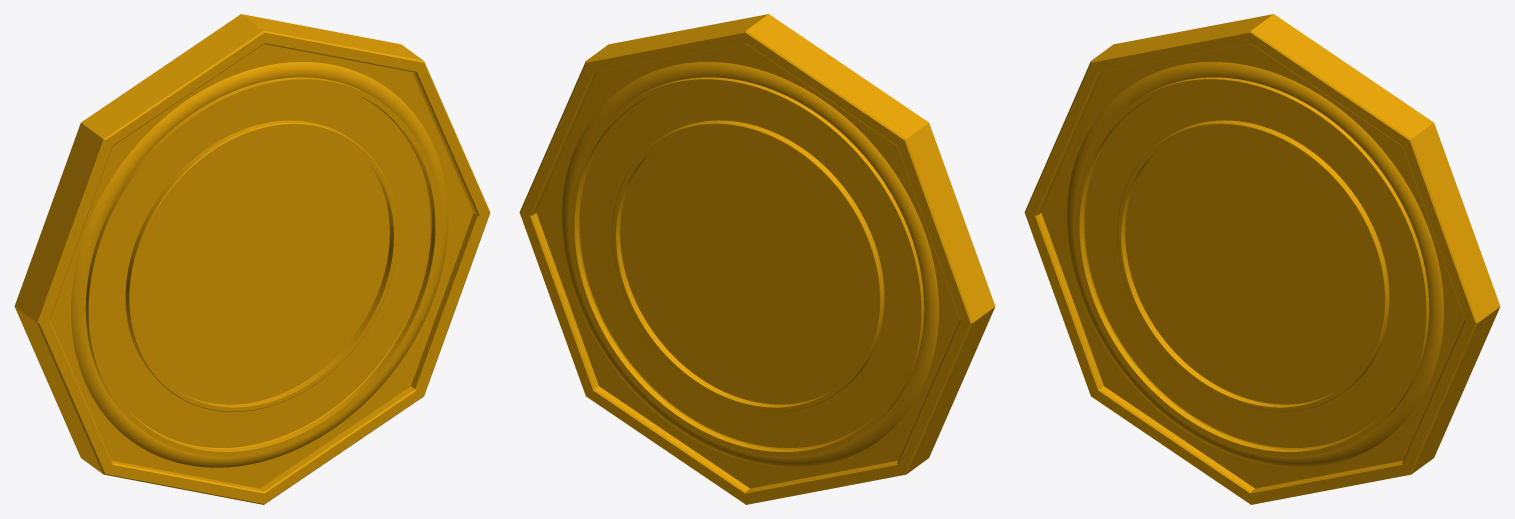
The model's file is 20220425_GAMESPAWN_LINEemUP_COIN V3.9 no TEXT.fbx.
3 renders of one model, left to right at view 1: azimuth 30°, elevation 25°; view 2: azimuth 150°, elevation 25°; view 3: azimuth 330°, elevation 25°, orthographic.
Visible parts, largest first — view 1: Cylinder; view 2: Cylinder; view 3: Cylinder.
Boxes of the visible parts, x1=… form: Cylinder: x1=14, y1=14, x2=490, y2=504; Cylinder: x1=519, y1=14, x2=995, y2=504; Cylinder: x1=1024, y1=14, x2=1500, y2=504.
Bounding box in the file's own units: 400 × 400 × 37.
